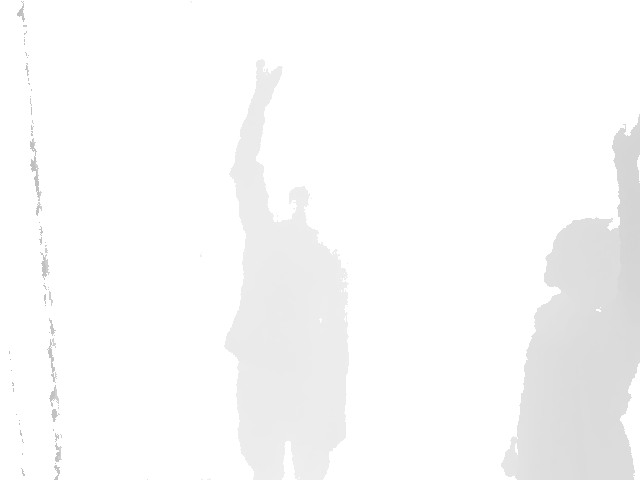hand: (611, 111, 640, 166), (254, 58, 283, 96)
head: (543, 216, 623, 308)
person: (222, 57, 351, 480), (498, 111, 640, 480)
